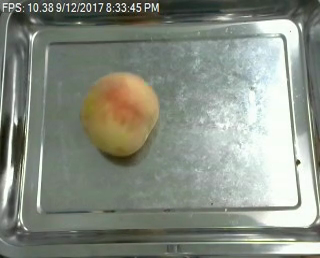Peach: (80, 72, 159, 157)
